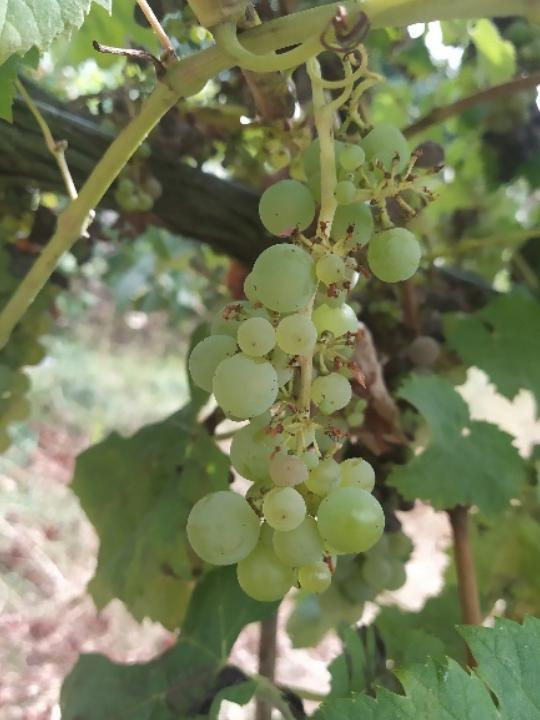grape: (183, 120, 426, 607)
